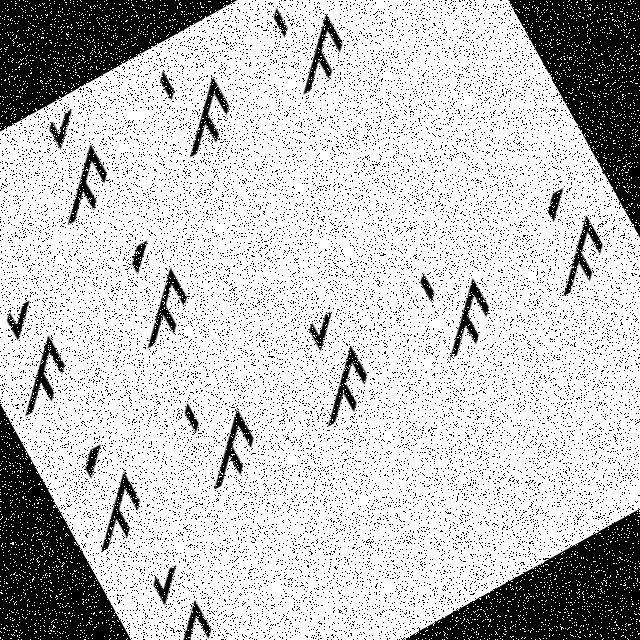kang: (86, 220, 221, 376), (44, 423, 175, 568), (502, 172, 630, 310), (0, 162, 31, 304)
kar: (266, 294, 396, 439), (8, 100, 130, 233), (0, 271, 103, 428), (113, 543, 246, 639)
ke: (124, 30, 260, 180), (158, 362, 288, 503), (392, 238, 512, 372), (243, 0, 374, 113)
